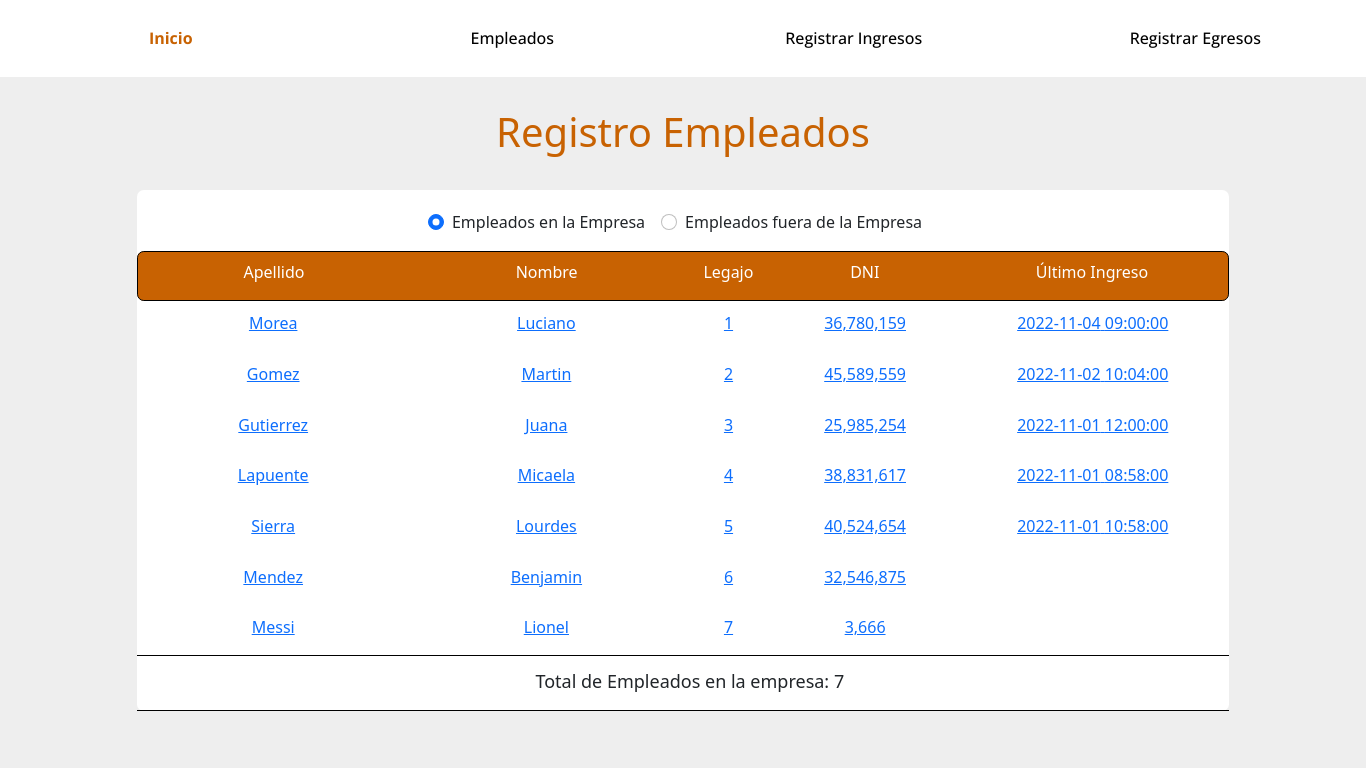
Scenario: Egresos › renders Title Registro Egresos
Click the link "Registrar Egresos".
click(1195, 38)  # box [1130,26,1261,50]
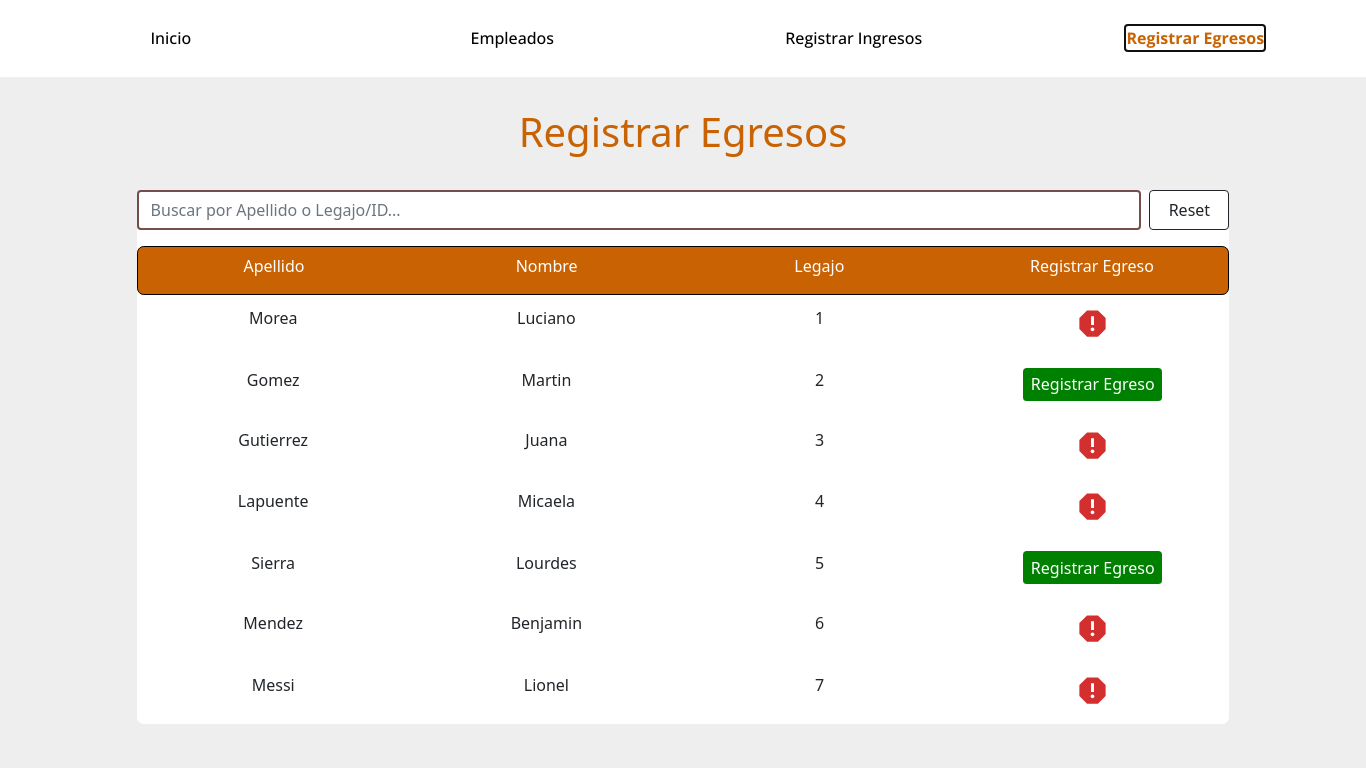
Expected: the number of links is 6, [150,26,191,50]; [470,26,554,50]; [785,26,922,50]; [1126,26,1264,50]; [1023,368,1162,401]; [1023,551,1162,584]
Expected: the heading "Registrar Egresos" is shown, [519,104,847,158]
